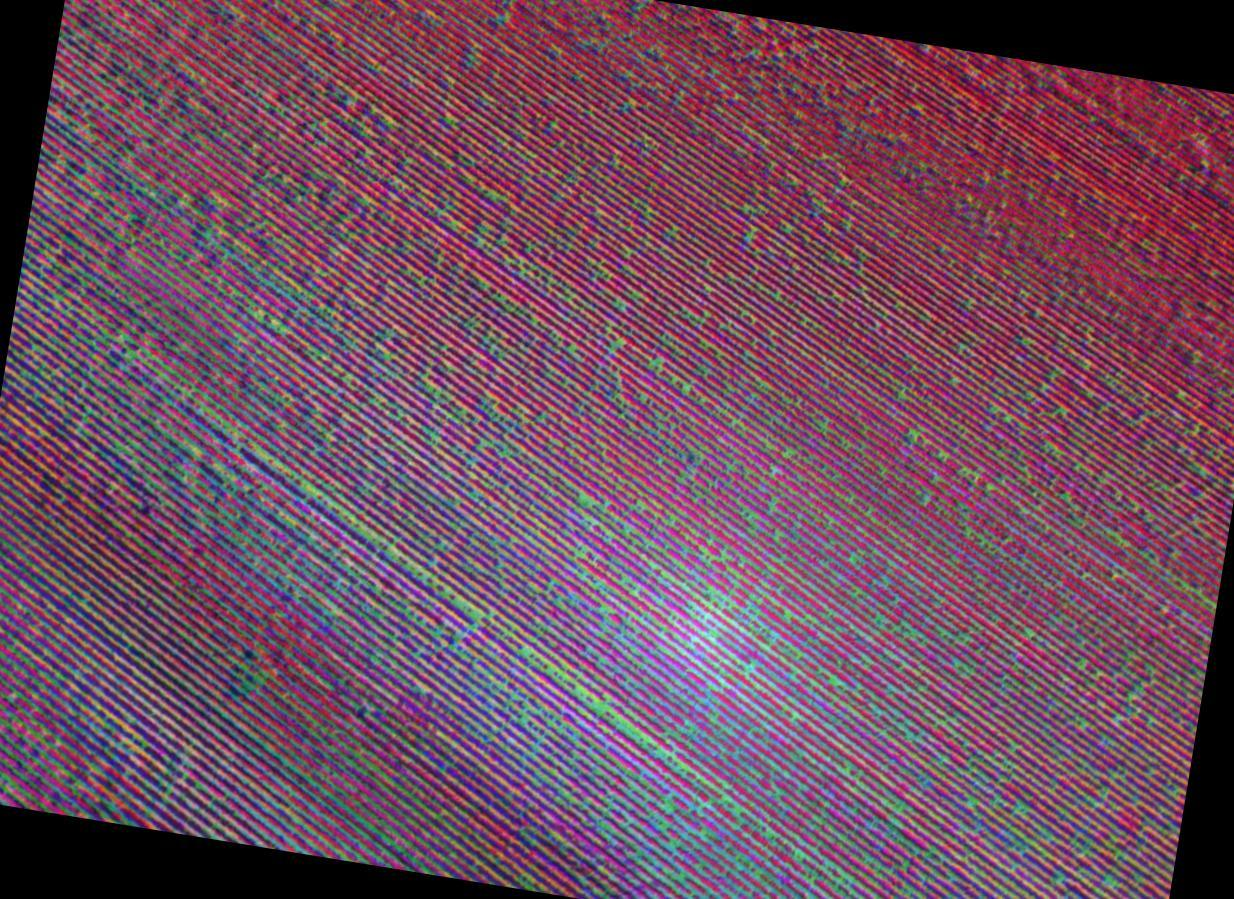dc: (641, 485, 797, 699), (231, 488, 371, 626), (68, 338, 193, 477), (588, 748, 691, 866), (408, 618, 510, 728)
